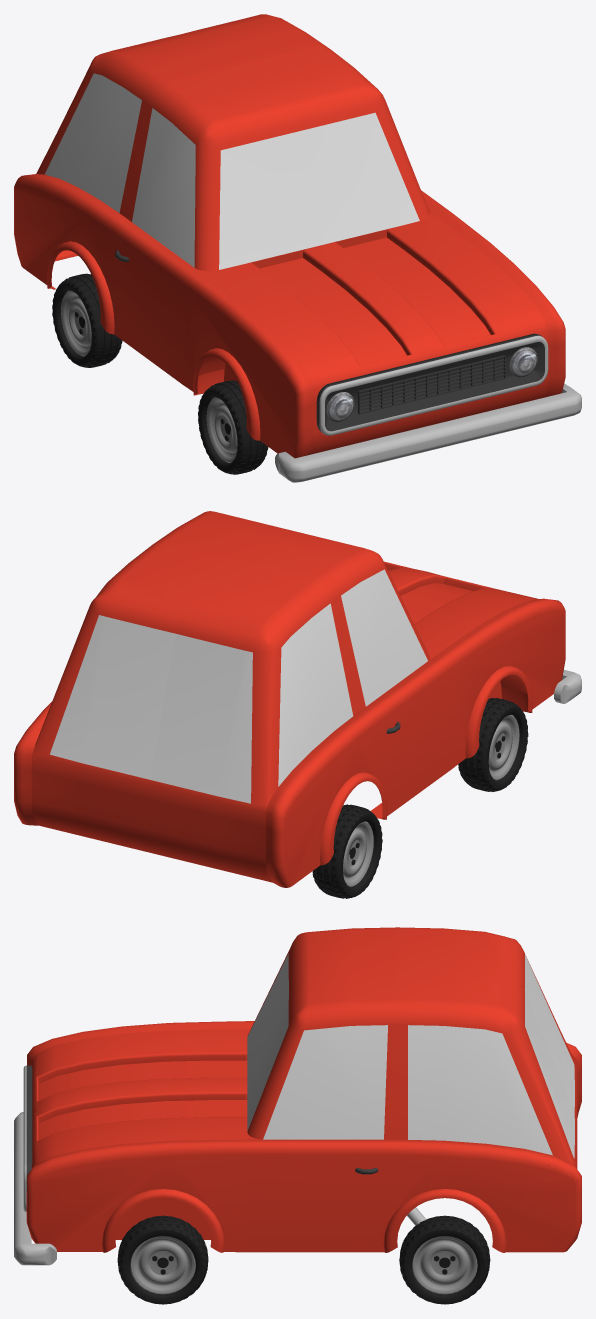
The model's file is Coche.fbx.
The picture shows the model from 3 angles, top to bottom: view 1: azimuth 30°, elevation 25°; view 2: azimuth 150°, elevation 25°; view 3: azimuth 270°, elevation 25°; orthographic projection. The views are drawn at different scales.
Parts seen in each view (by area): view 1: Cube.001, Capo, Cube, Cube.003, Rueda.001, Rueda.003, Cube.002, Vano, Cone, Cone.001; view 2: Cube.001, Capo, Rueda.001, Rueda.003, Vano, Cube.003; view 3: Cube.001, Capo, Rueda.002, Rueda, Cube.003, Vano, Cube.
Part boxes in pixels (box(x1,y1,x2,y2)): Cube.001: box(14, 14, 565, 458); Capo: box(203, 217, 545, 382); Cube: box(316, 333, 548, 435); Cube.003: box(275, 383, 581, 482); Rueda.001: box(198, 380, 268, 474); Rueda.003: box(52, 273, 122, 367); Cube.002: box(358, 355, 505, 414); Vano: box(197, 223, 410, 394); Cone: box(509, 347, 537, 377); Cone.001: box(326, 392, 354, 421); Cube.001: box(14, 511, 565, 887); Capo: box(384, 561, 537, 654); Rueda.001: box(458, 697, 528, 791); Rueda.003: box(312, 804, 382, 898); Vano: box(489, 674, 528, 712); Cube.003: box(554, 670, 581, 703); Cube.001: box(26, 927, 581, 1252); Capo: box(34, 1029, 247, 1164); Rueda.002: box(399, 1215, 490, 1304); Rueda: box(117, 1215, 208, 1304); Cube.003: box(14, 1112, 56, 1265); Vano: box(115, 1041, 246, 1239); Cube: box(23, 1065, 32, 1212).
Size of the model in its own units: 782 by 722 by 1346.
Materials: 22 (1 with a texture image).
